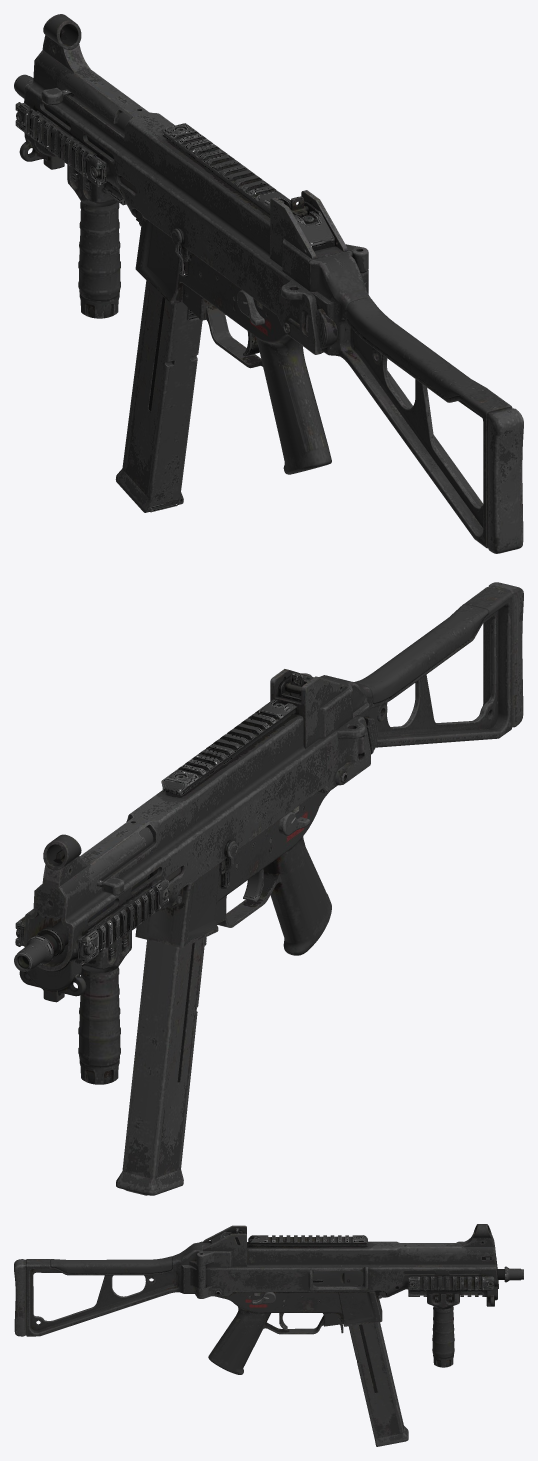
File: ump45_r.glb
3 views of the same model, one above another, from view 1: azimuth 30°, elevation 25°; view 2: azimuth 150°, elevation 25°; view 3: azimuth 270°, elevation 25° (orthographic). The views are drawn at different scales.
Parts seen in each view (by area): view 1: v_ump45_R; view 2: v_ump45_R; view 3: v_ump45_R.
Boxes of the visible parts, x1,y1,x2,y2 form: v_ump45_R: (14, 14, 523, 553); v_ump45_R: (14, 582, 523, 1195); v_ump45_R: (14, 1224, 523, 1446).
Bounding box in the file's own units: 0.0662 × 0.3444 × 0.7282.
2 materials, 2 textured.
